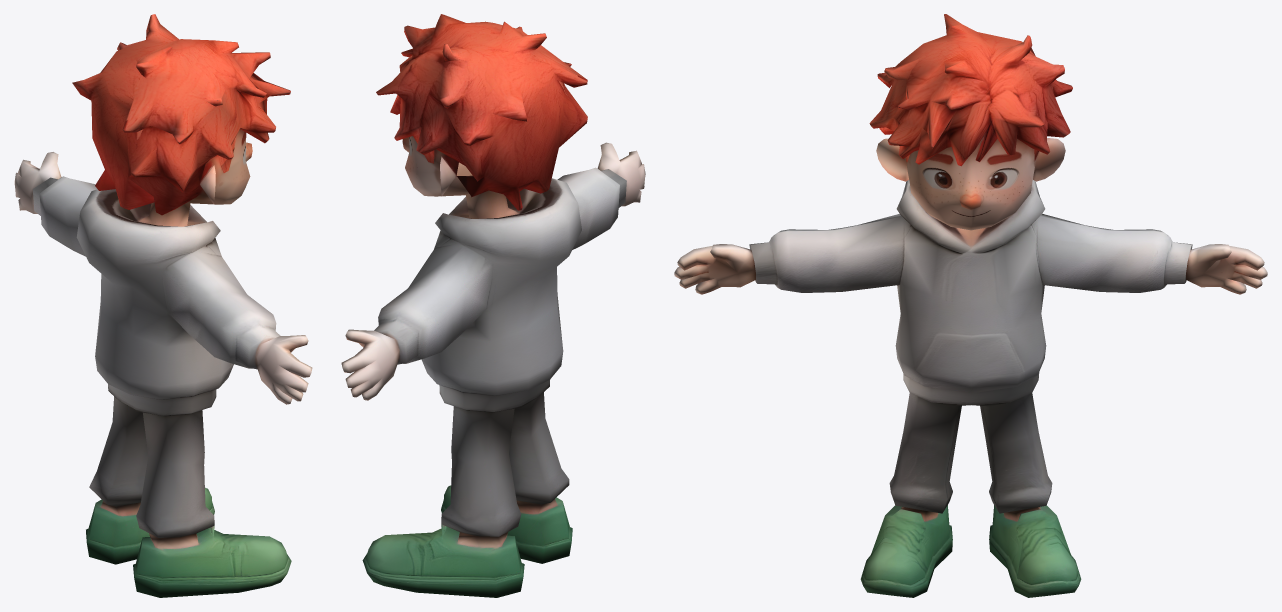
The picture shows the model from 3 angles, left to right: view 1: azimuth 30°, elevation 25°; view 2: azimuth 150°, elevation 25°; view 3: azimuth 270°, elevation 25°; orthographic projection. The views are drawn at different scales.
Visible parts, largest first — view 1: tripo_node_0e46bd11-5813-4b38-a4af-543c4ebba61e; view 2: tripo_node_0e46bd11-5813-4b38-a4af-543c4ebba61e; view 3: tripo_node_0e46bd11-5813-4b38-a4af-543c4ebba61e.
Boxes of the visible parts, box(x1,y1,x2,y2) form: tripo_node_0e46bd11-5813-4b38-a4af-543c4ebba61e: box(14, 14, 312, 597); tripo_node_0e46bd11-5813-4b38-a4af-543c4ebba61e: box(341, 14, 645, 597); tripo_node_0e46bd11-5813-4b38-a4af-543c4ebba61e: box(674, 14, 1267, 597).
Bounding box in the file's own units: 0.3628 × 0.9907 × 0.9995.
Materials: 1 (1 with a texture image).
